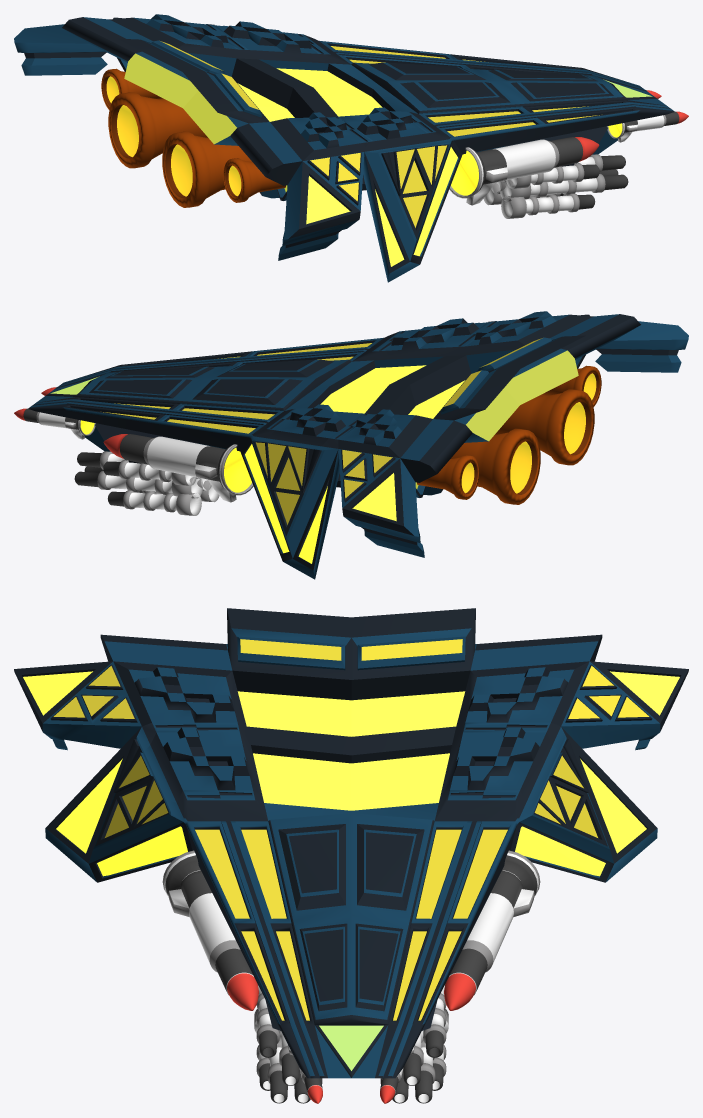
The model's file is nave2.glb.
3 views of the same model, one above another, from view 1: azimuth 30°, elevation 25°; view 2: azimuth 150°, elevation 25°; view 3: azimuth 270°, elevation 25° (orthographic). The views are drawn at different scales.
Parts seen in each view (by area): view 1: Cube, Cylinder.001, Cylinder.002, Cylinder; view 2: Cube, Cylinder.001, Cylinder.002, Cylinder; view 3: Cube, Cylinder.002, Cylinder.
Part boxes in pixels (bbox=[...]): Cube: bbox=[14, 14, 674, 282]; Cylinder.001: bbox=[101, 68, 285, 207]; Cylinder.002: bbox=[449, 90, 688, 205]; Cylinder: bbox=[483, 154, 628, 218]; Cube: bbox=[28, 311, 688, 579]; Cylinder.001: bbox=[417, 365, 601, 504]; Cylinder.002: bbox=[14, 387, 253, 502]; Cylinder: bbox=[74, 451, 219, 515]; Cube: bbox=[14, 608, 688, 1078]; Cylinder.002: bbox=[162, 850, 540, 1103]; Cylinder: bbox=[254, 985, 448, 1103].
Size of the model in its own units: 11.92 by 4.39 by 10.77.
Materials: 6 (5 with a texture image).
